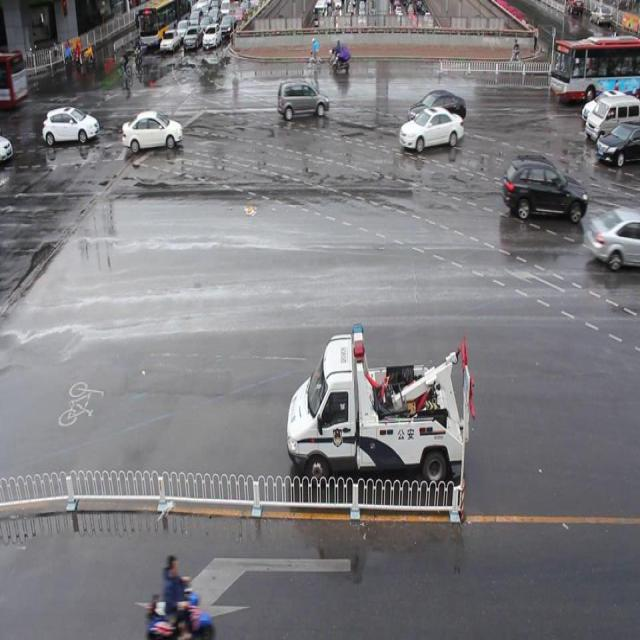bus: (286, 320, 475, 486)
car: (502, 152, 586, 221), (586, 204, 640, 267), (397, 103, 463, 148), (122, 106, 182, 150), (43, 102, 100, 142), (594, 119, 640, 165), (278, 78, 328, 116), (408, 90, 465, 122)
truck: (585, 96, 640, 137)
van: (550, 36, 640, 98)
